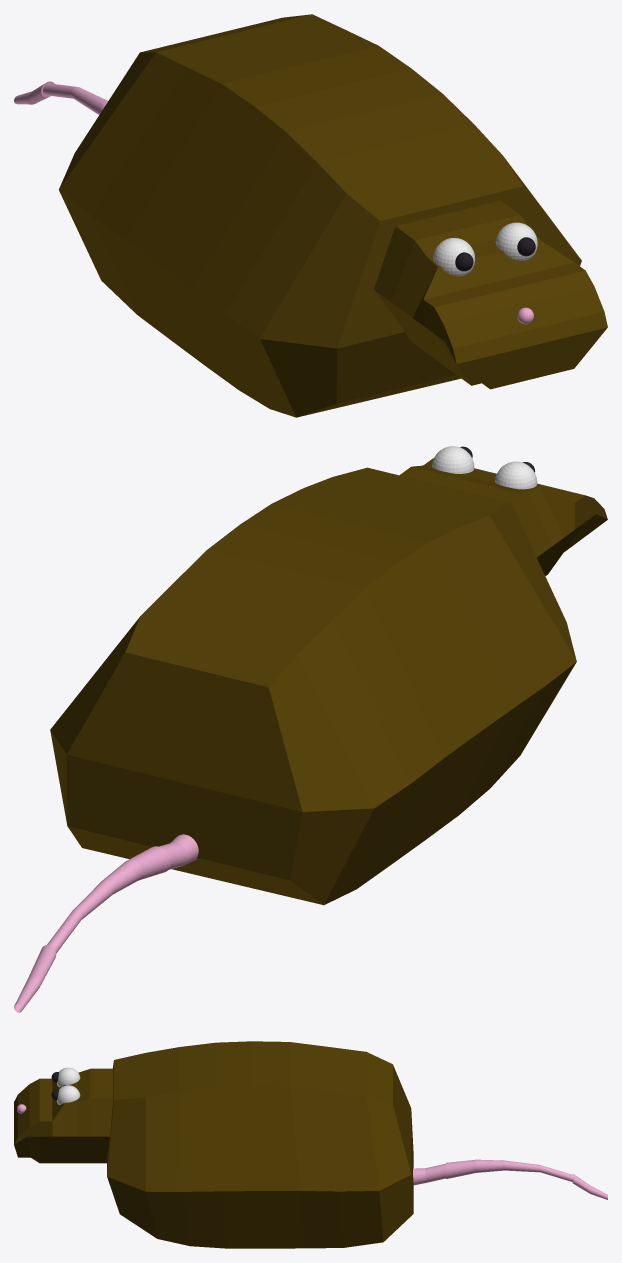
The model's file is rat.fbx.
3 renders of one model, top to bottom at view 1: azimuth 30°, elevation 25°; view 2: azimuth 150°, elevation 25°; view 3: azimuth 270°, elevation 25°, orthographic. The views are drawn at different scales.
Parts seen in each view (by area): view 1: Body, Cube, Sphere, Tail, Sphere.001; view 2: Body, Cube, Tail, Sphere; view 3: Body, Cube, Tail, Sphere.
Boxes of the visible parts, x1,y1,x2,y2 form: Body: (59, 14, 581, 417); Cube: (374, 200, 607, 389); Sphere: (433, 222, 537, 276); Tail: (14, 81, 107, 114); Sphere.001: (455, 237, 535, 271); Body: (50, 467, 576, 905); Cube: (399, 458, 607, 575); Tail: (14, 834, 198, 1012); Sphere: (432, 446, 537, 489); Body: (107, 1041, 413, 1248); Cube: (14, 1068, 113, 1163); Tail: (413, 1159, 607, 1199); Sphere: (56, 1067, 80, 1104).
Bounding box in the file's own units: 179 × 137 × 487.
